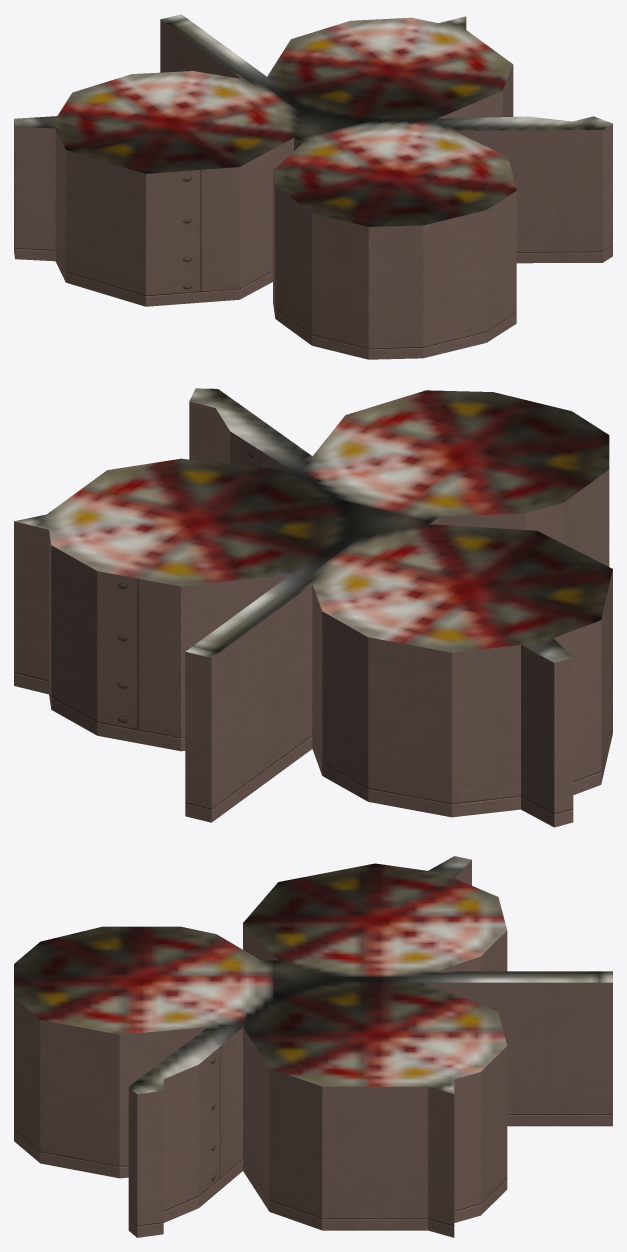
Rendered from fuel_tank_heavy_39.glb.
The picture shows the model from 3 angles, top to bottom: view 1: azimuth 30°, elevation 25°; view 2: azimuth 150°, elevation 25°; view 3: azimuth 270°, elevation 25°; orthographic projection. The views are drawn at different scales.
Parts seen in each view (by area): view 1: buildings/saxarba/fuel_tanks/fuel_tank_heavy_39; view 2: buildings/saxarba/fuel_tanks/fuel_tank_heavy_39; view 3: buildings/saxarba/fuel_tanks/fuel_tank_heavy_39.
Boxes of the visible parts, box(x1,y1,x2,y2) form: buildings/saxarba/fuel_tanks/fuel_tank_heavy_39: box(14, 14, 612, 359); buildings/saxarba/fuel_tanks/fuel_tank_heavy_39: box(14, 388, 612, 827); buildings/saxarba/fuel_tanks/fuel_tank_heavy_39: box(14, 856, 612, 1237).
Bounding box in the file's own units: 64 × 18 × 68.
